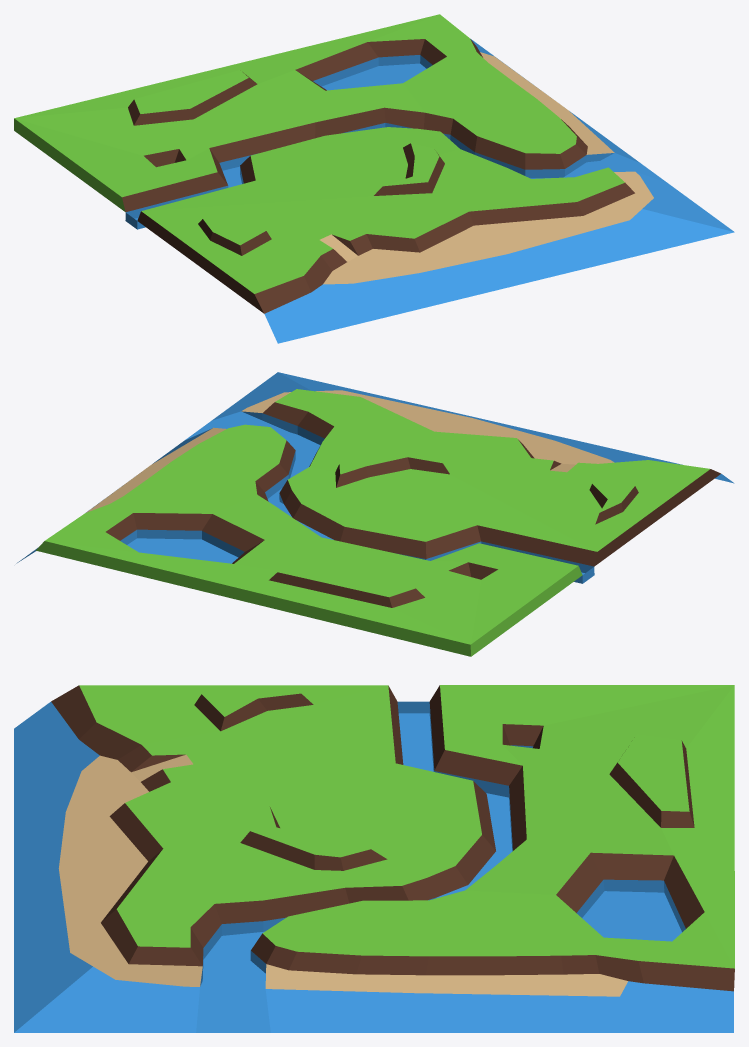
The model's file is terrain2.fbx.
The picture shows the model from 3 angles, top to bottom: view 1: azimuth 30°, elevation 25°; view 2: azimuth 150°, elevation 25°; view 3: azimuth 270°, elevation 25°; orthographic projection. The views are drawn at different scales.
Visible parts, largest first — view 1: Plane; view 2: Plane; view 3: Plane.
Boxes of the visible parts, <box> form: Plane: <box>14,14,734,343</box>; Plane: <box>16,372,734,656</box>; Plane: <box>14,685,734,1032</box>.
Size of the model in its own units: 200 by 17.33 by 200.
